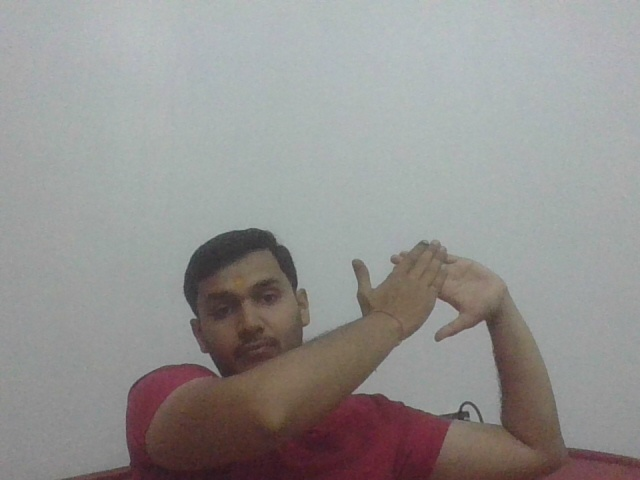H: (341, 234, 519, 345)
